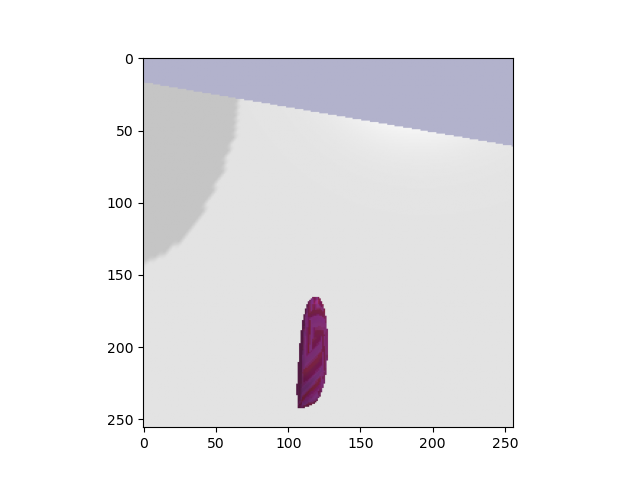v249b387_105: (288, 292, 337, 410)
